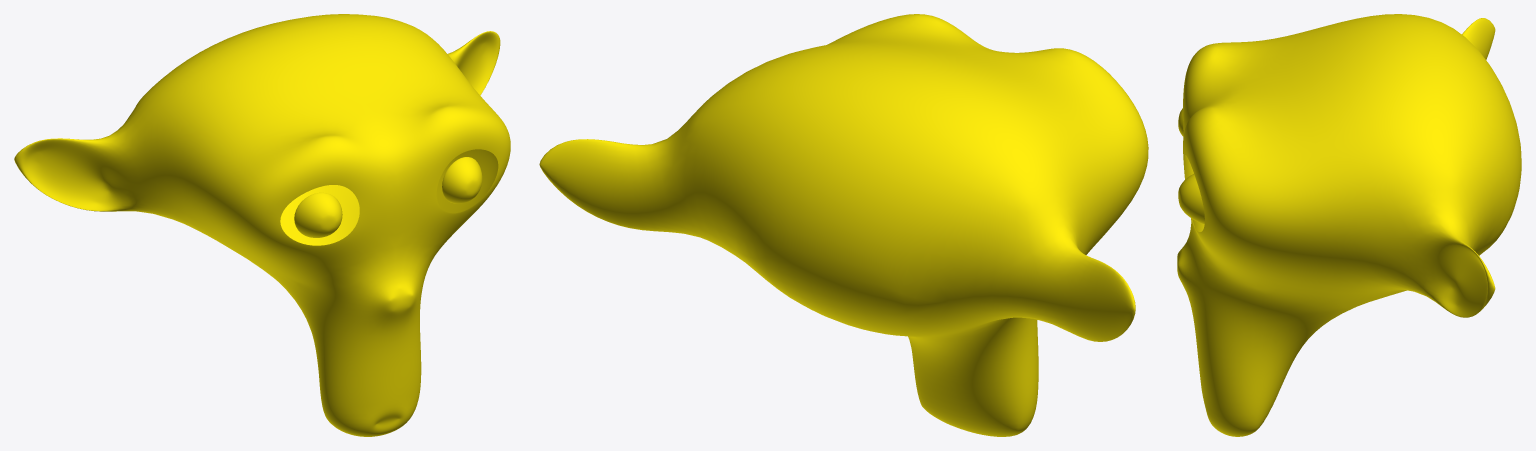
Rendered from monkey2.glb.
The picture shows the model from 3 angles, left to right: view 1: azimuth 30°, elevation 25°; view 2: azimuth 150°, elevation 25°; view 3: azimuth 270°, elevation 25°; orthographic projection. The views are drawn at different scales.
Parts seen in each view (by area): view 1: Suzanne; view 2: Suzanne; view 3: Suzanne.
Part boxes in pixels (<box>): Suzanne: <box>14,14,510,436</box>; Suzanne: <box>539,14,1148,436</box>; Suzanne: <box>1177,14,1521,436</box>.
Bounding box in the file's own units: 2.38 × 1.64 × 1.34.
